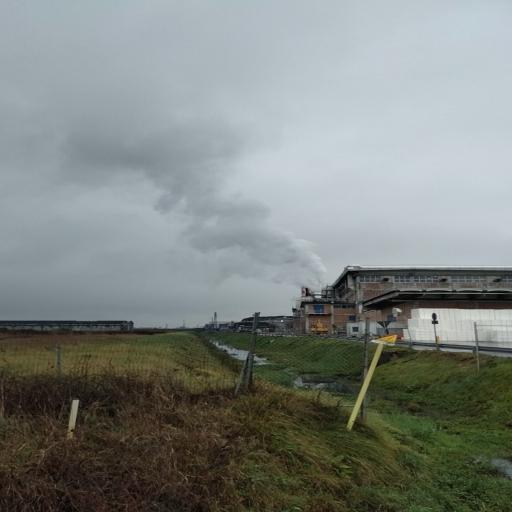leakage: (48, 103, 340, 302)
